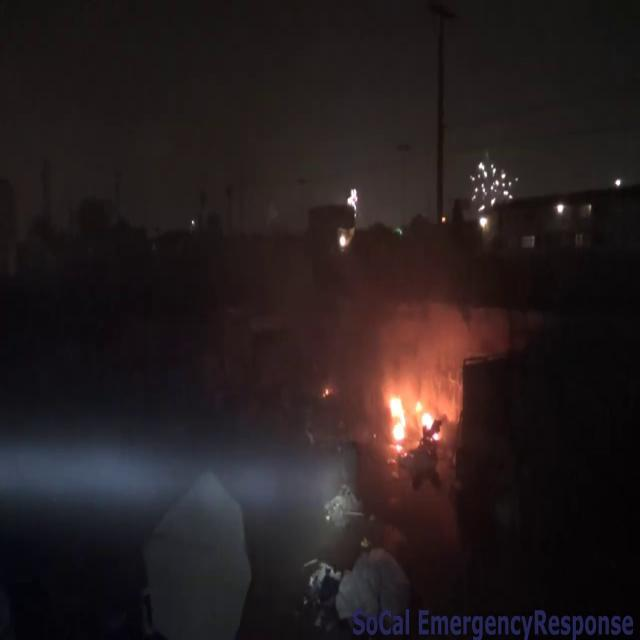Fire: (381, 374, 443, 451)
